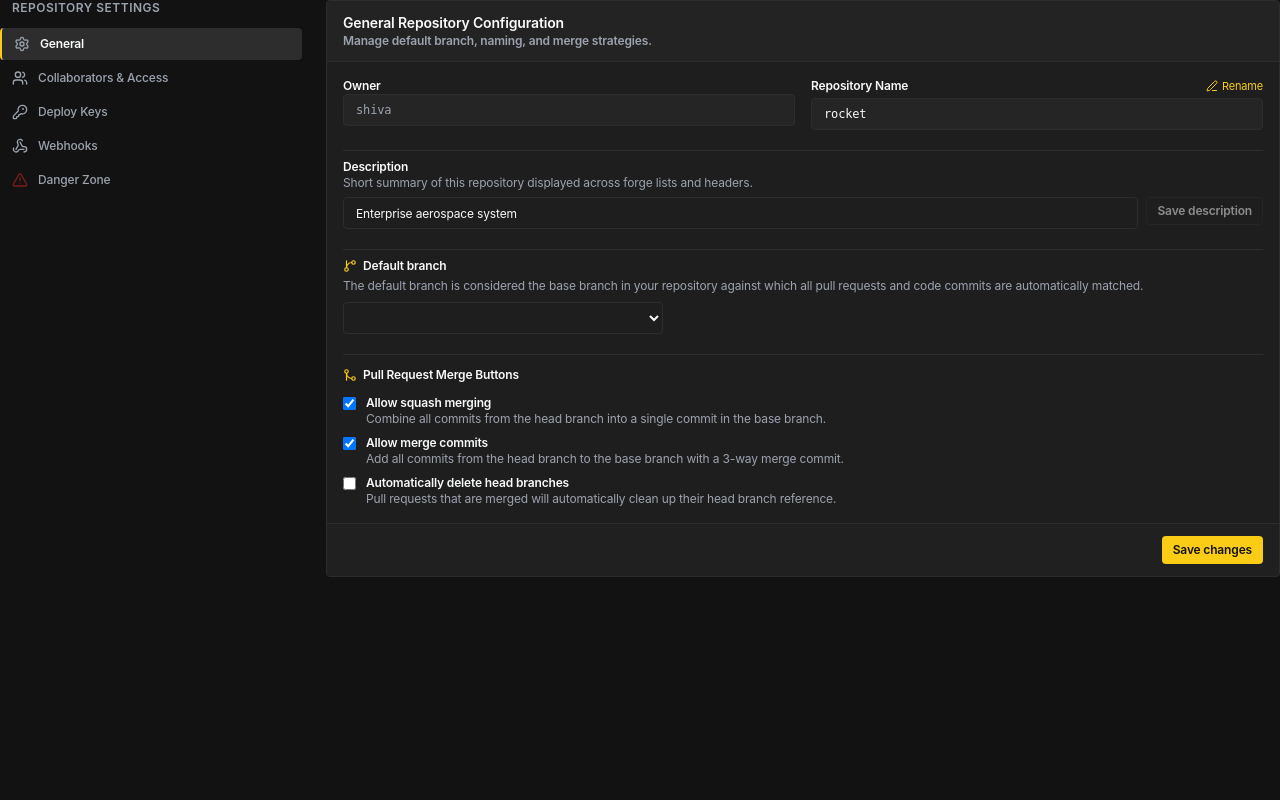
Test: RepoSettingsView › opens transfer ownership modal from Danger Zone
This screenshot has width=1280, height=800.
What coordinates should you click on to do the following:
click the button "Danger Zone"
I would click on:
 (74, 180)
Its box is [0,164,302,196].
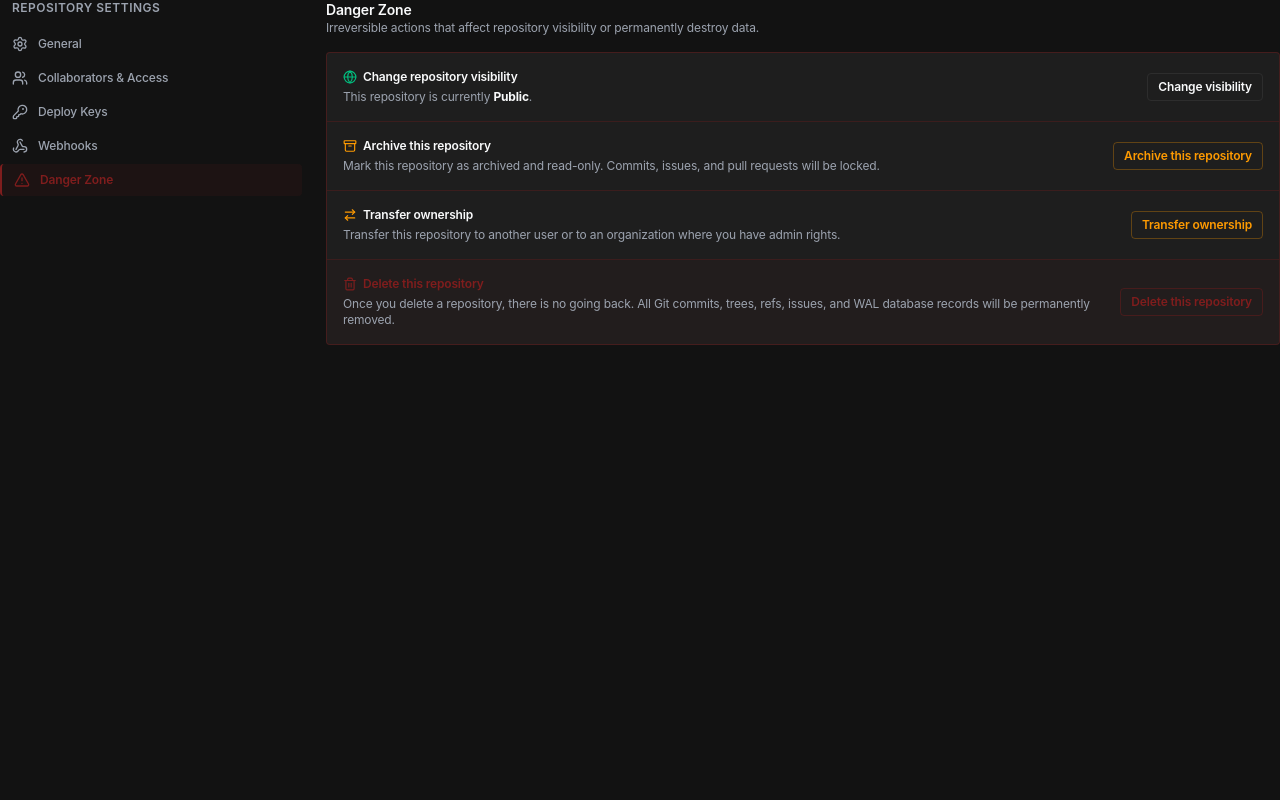
Now the button with test id "repo-transfer-btn" is shown
What coordinates should you click on to do the following:
click the button with test id "repo-transfer-btn"
I would click on:
 (1197, 225)
Its box is [1131,211,1263,239].
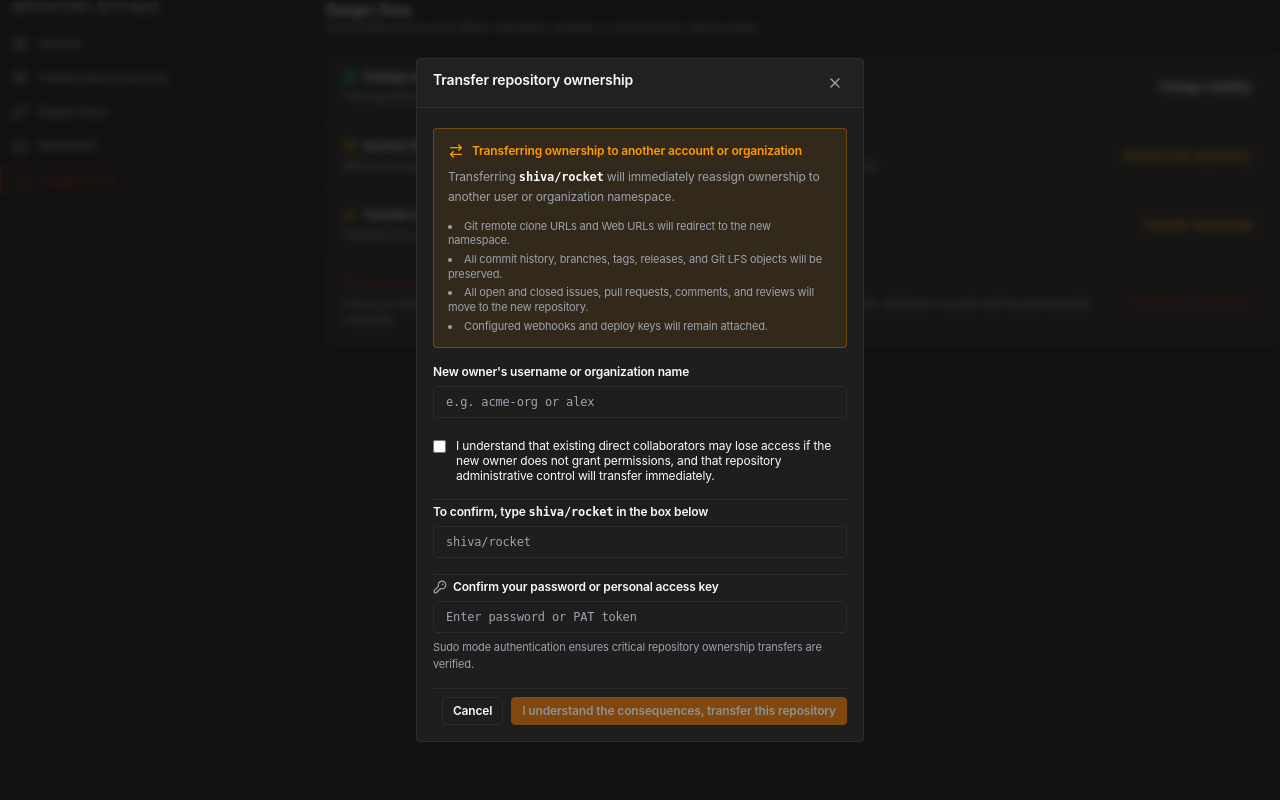
Now the heading "Transfer repository ownership" is shown, box [433,71,633,88]
Now the field with test id "transfer-owner-input" is shown, box [433,386,847,418]
Now the field with test id "transfer-confirm-input" is shown, box [433,526,847,558]
